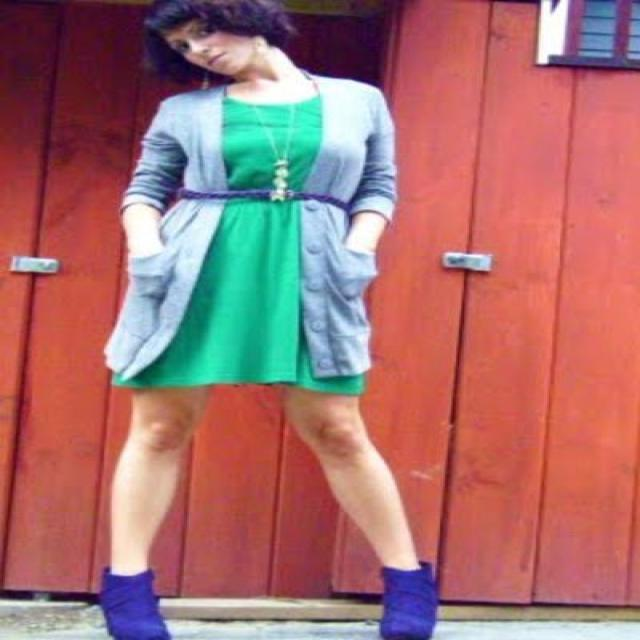dress: (110, 98, 367, 396)
jacket: (104, 71, 397, 380)
shoe: (96, 550, 469, 639)
